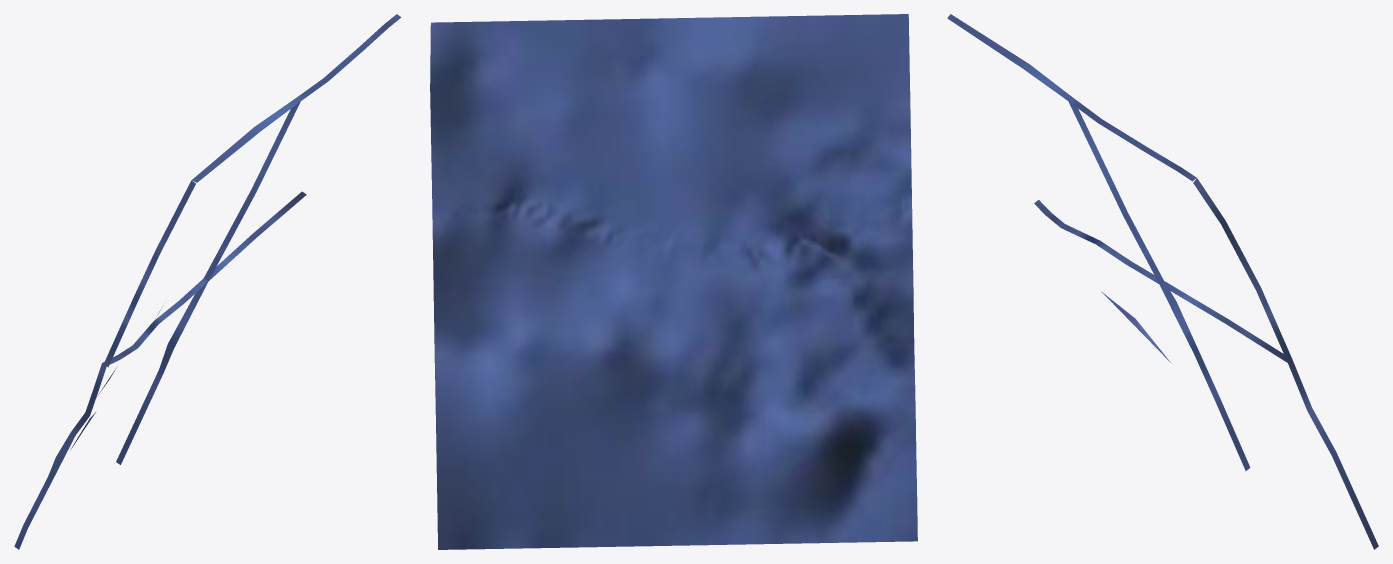
The picture shows the model from 3 angles, left to right: view 1: azimuth 30°, elevation 25°; view 2: azimuth 150°, elevation 25°; view 3: azimuth 270°, elevation 25°; orthographic projection. The views are drawn at different scales.
Size of the model in its own units: 19404 by 18040 by 16747.
Materials: 1 (1 with a texture image).
